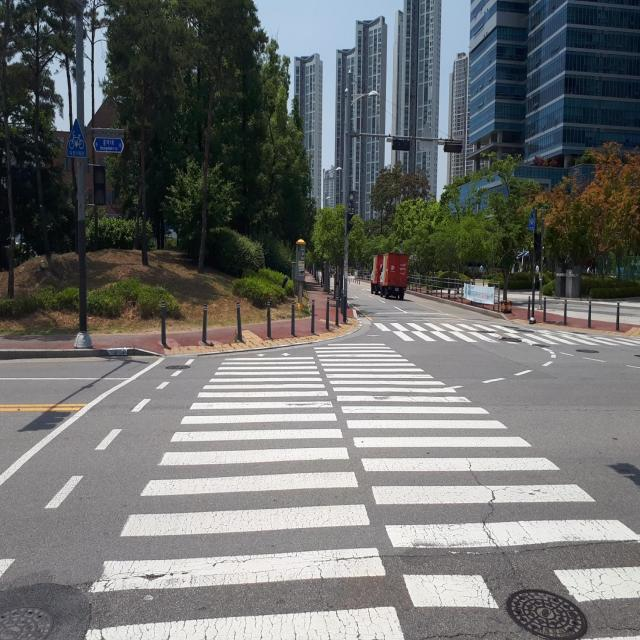횡단보도: (81, 337, 640, 640), (370, 318, 640, 347)
